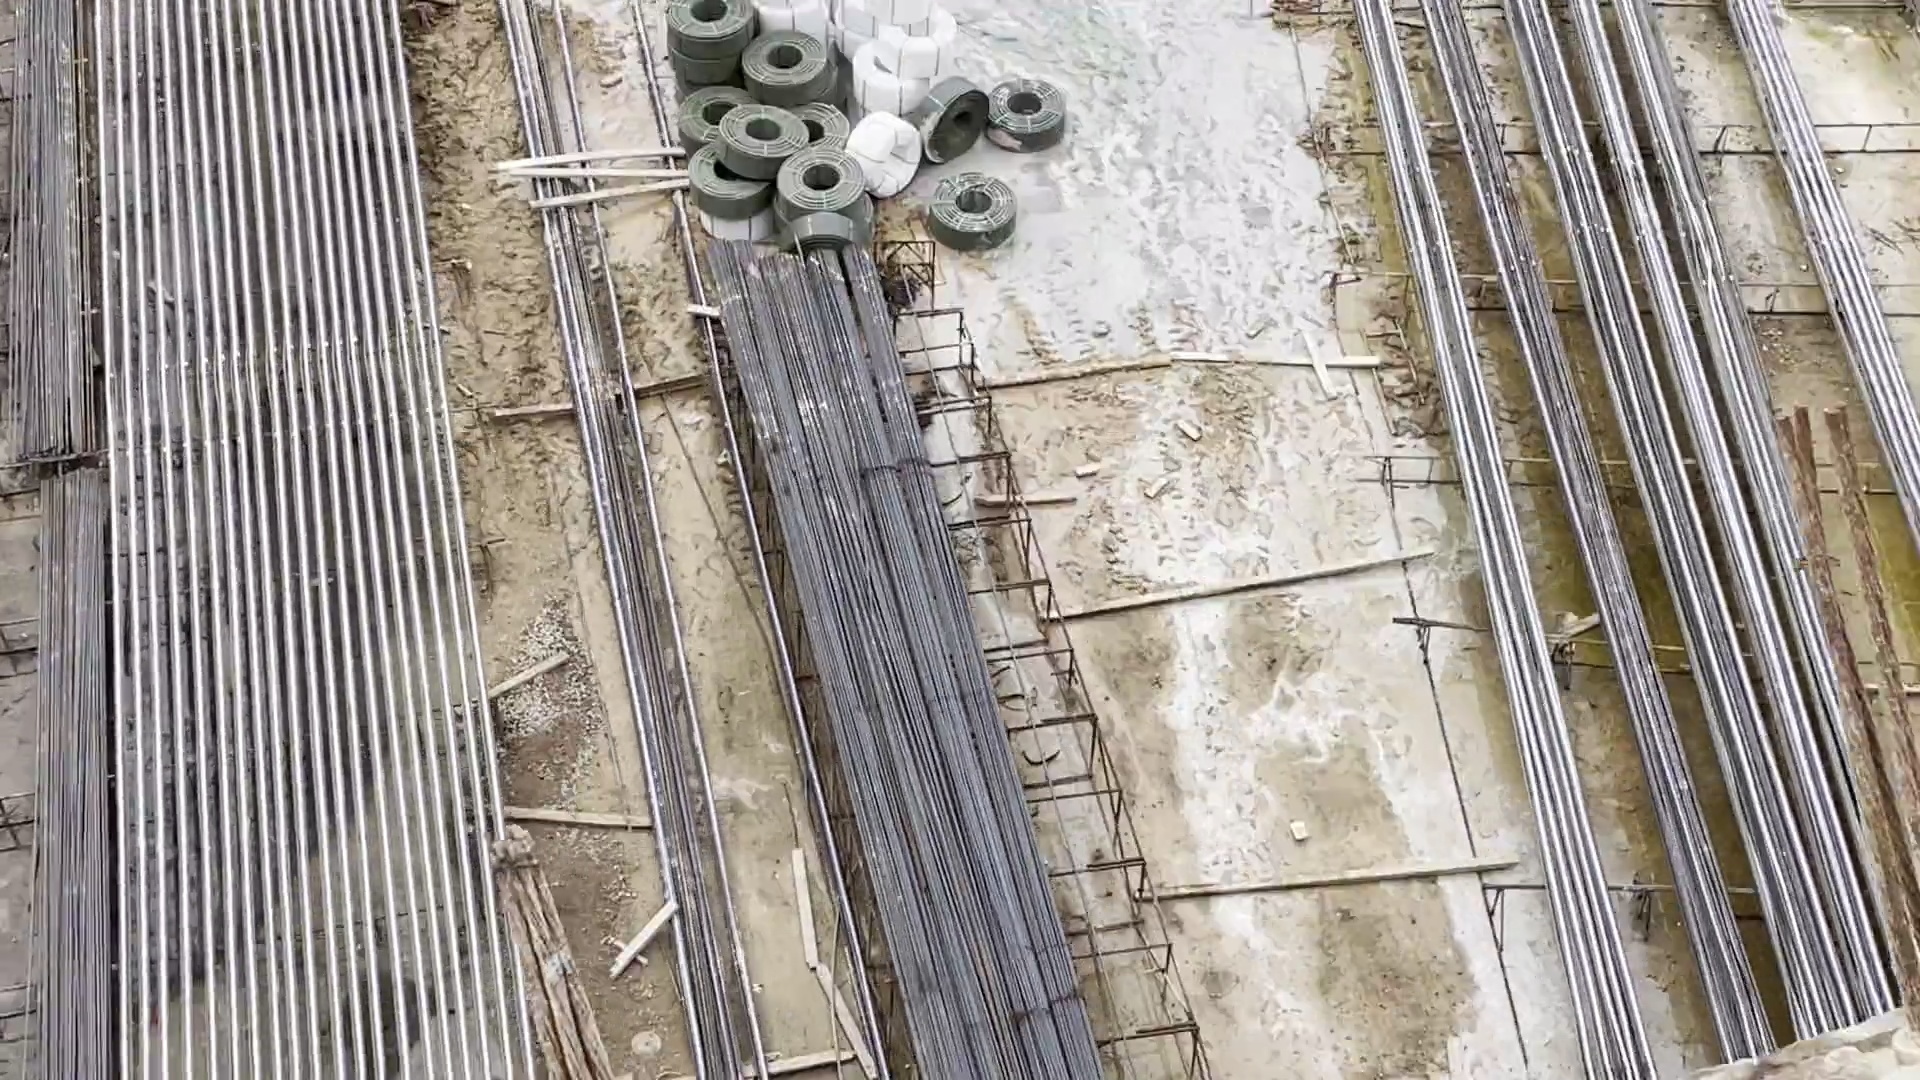rebar: (1429, 18, 1902, 1080), (702, 236, 1087, 1080), (15, 32, 193, 1080)
